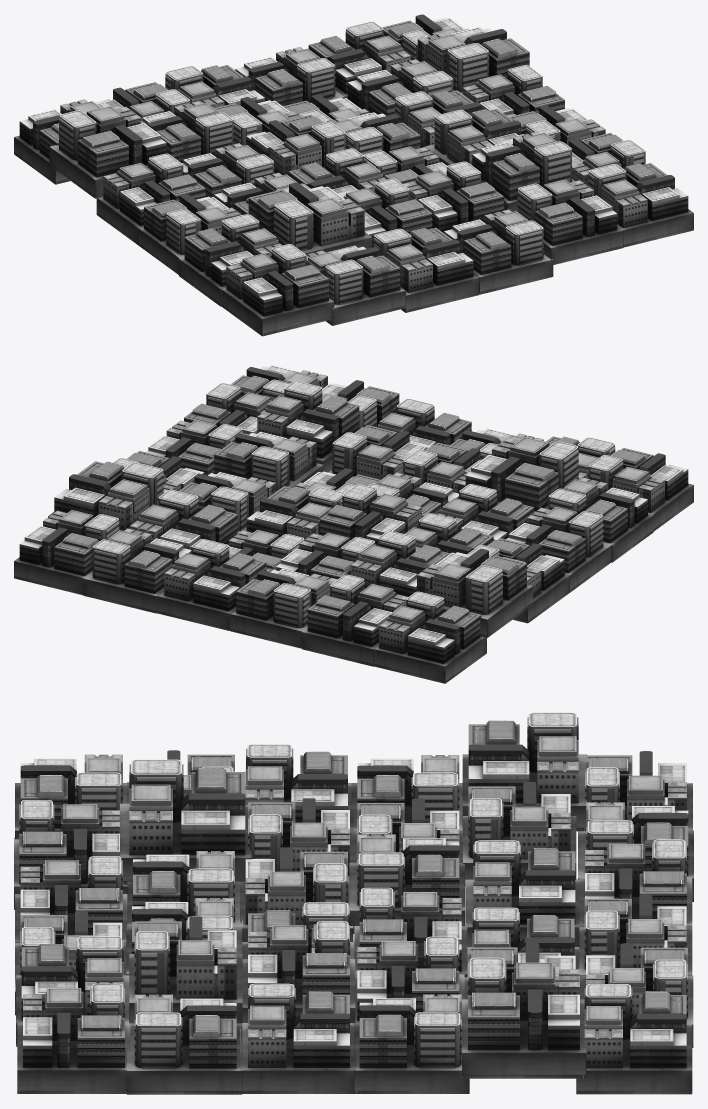
Rendered from cityblocks_01.DAE.
3 views of the same model, one above another, from view 1: azimuth 30°, elevation 25°; view 2: azimuth 150°, elevation 25°; view 3: azimuth 270°, elevation 25° (orthographic). The views are drawn at different scales.
Visible parts, largest first — view 1: citytest; view 2: citytest; view 3: citytest.
Part boxes in pixels (x1,y1,x2,y2): citytest: [14, 14, 693, 336]; citytest: [14, 365, 693, 683]; citytest: [14, 712, 693, 1094].
Size of the model in its own units: 15425 by 15137 by 2829.
